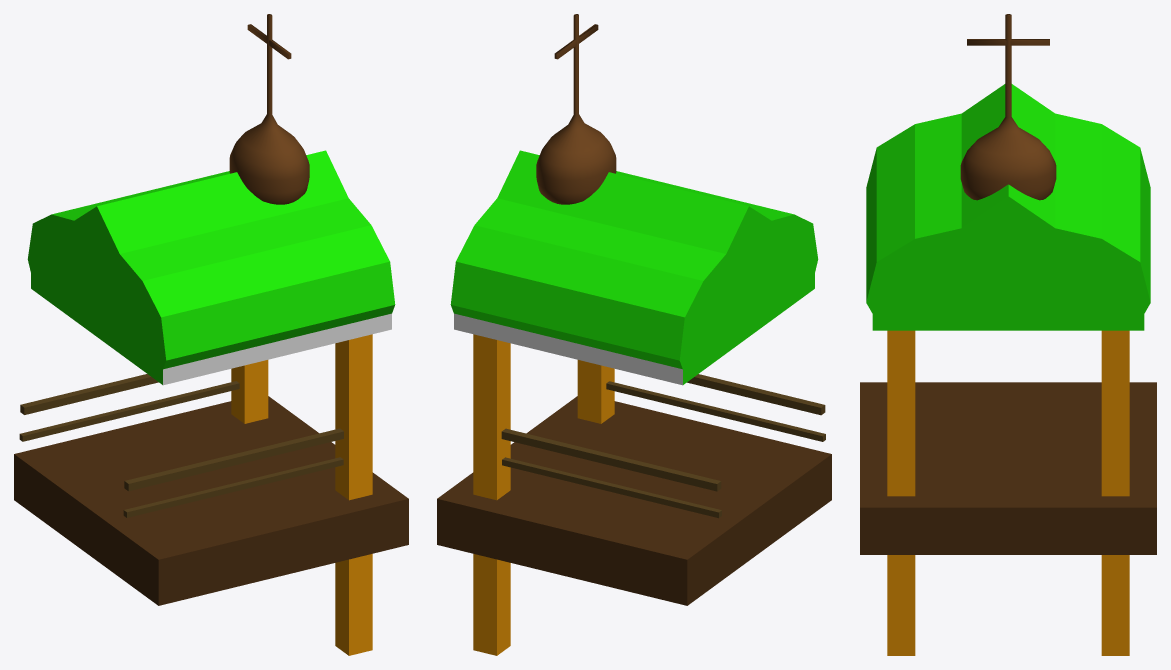
Rendered from mostBegining_.fbx.
3 renders of one model, left to right at view 1: azimuth 30°, elevation 25°; view 2: azimuth 150°, elevation 25°; view 3: azimuth 270°, elevation 25°, orthographic. The views are drawn at different scales.
Visible parts, largest first — view 1: Cube.019; view 2: Cube.019; view 3: Cube.019.
Part boxes in pixels (x1,y1,x2,y2): Cube.019: (14,14,408,655); Cube.019: (437,14,831,655); Cube.019: (860,14,1156,655).
Bounding box in the file's own units: 320 × 701 × 305.
